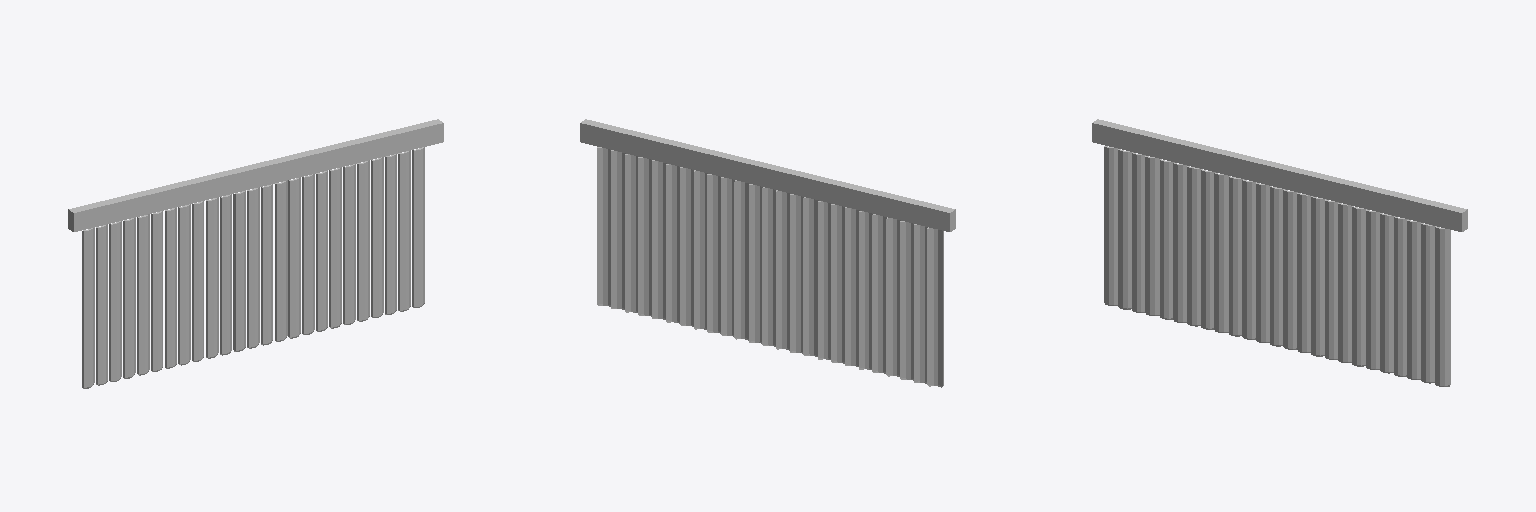
Rendered from WindowCurtains.obj.
The picture shows the model from 3 angles: view 1: azimuth 30°, elevation 25°; view 2: azimuth 150°, elevation 25°; view 3: azimuth 330°, elevation 25°; orthographic projection.
Visible parts, largest first — view 1: Cube_Cube.001; view 2: Cube_Cube.001; view 3: Cube_Cube.001.
Boxes of the visible parts, <box> form: Cube_Cube.001: <box>68,119,443,388</box>; Cube_Cube.001: <box>580,119,955,387</box>; Cube_Cube.001: <box>1092,119,1467,386</box>.
Bounding box in the file's own units: 16 × 7.43 × 0.4.